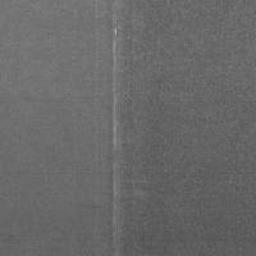Welding line: (105, 0, 118, 256)
